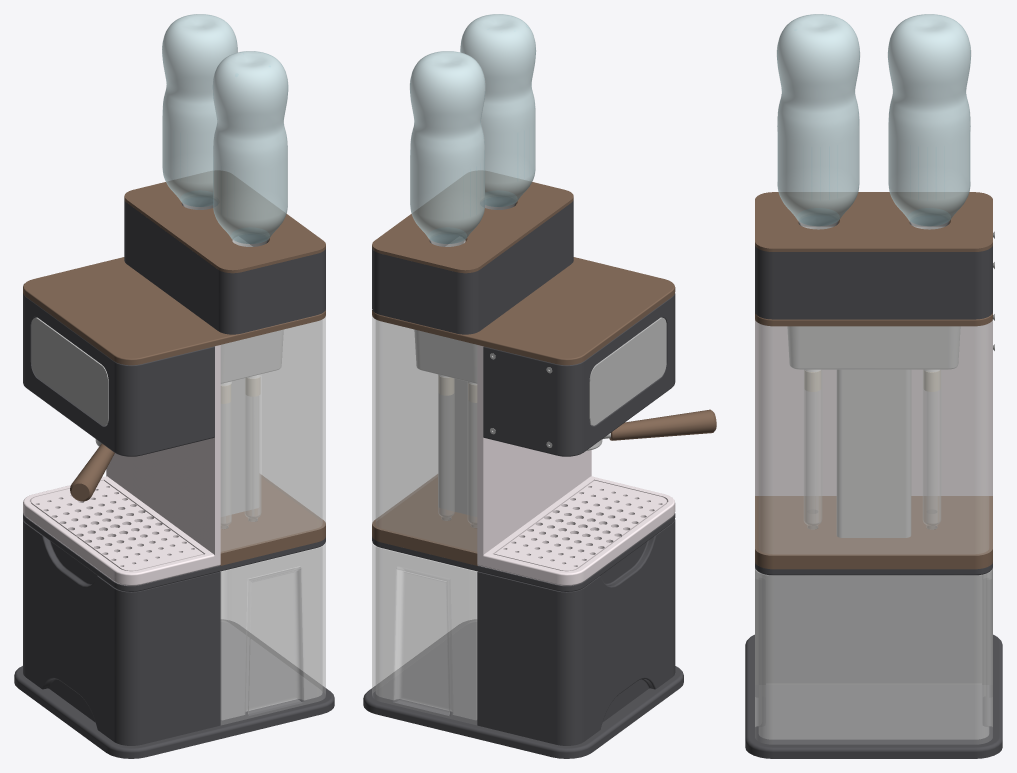
Rendered from coffee-machine.glb.
3 renders of one model, left to right at view 1: azimuth 30°, elevation 25°; view 2: azimuth 150°, elevation 25°; view 3: azimuth 270°, elevation 25°, orthographic. The views are drawn at different scales.
Parts seen in each view (by area): view 1: Body1:1, Bottle, Body1, Water, Body1:11, Body1:3, Body1:4, Body4; view 2: Body1:1, Bottle, Body1, Water, Body1:11, Body1:3, Body1:4, Body4; view 3: Bottle, Body1:1, Water, Body1, Body1:11, Body1:3, Body4, Body1:4, Body3.
Part boxes in pixels (x1,y1,x2,y2): Body1:1: [14, 199, 334, 758]; Bottle: [162, 14, 325, 724]; Body1: [23, 171, 325, 565]; Water: [162, 14, 288, 243]; Body1:11: [23, 345, 220, 585]; Body1:3: [31, 240, 283, 516]; Body1:4: [221, 376, 261, 528]; Body4: [221, 395, 260, 524]; Body1:1: [363, 200, 683, 758]; Bottle: [372, 14, 536, 724]; Body1: [372, 171, 716, 565]; Water: [410, 14, 535, 243]; Body1:11: [477, 345, 675, 585]; Body1:3: [414, 240, 666, 516]; Body1:4: [438, 375, 476, 527]; Body4: [440, 395, 474, 523]; Bottle: [755, 14, 992, 744]; Body1:1: [745, 221, 1002, 758]; Water: [777, 14, 970, 226]; Body1: [755, 192, 992, 569]; Body1:11: [755, 319, 992, 495]; Body1:3: [787, 227, 994, 537]; Body4: [805, 390, 940, 524]; Body1:4: [804, 370, 940, 529]; Body3: [804, 370, 940, 391].
Size of the model in its own units: 0.4414 by 1.04 by 0.346.
